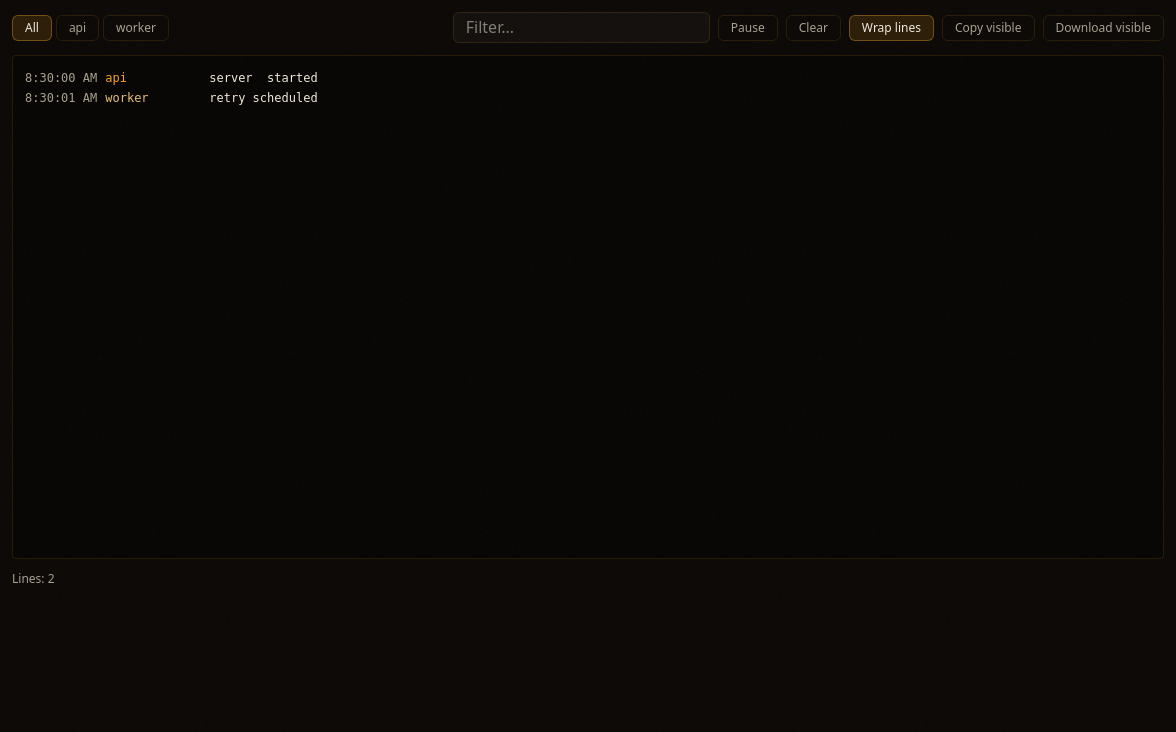
Test: StackLogsPage › shows a filtered empty state and disables transfer actions
In the field with placeholder "Filter...": (581, 28) [453,12,710,43], type "missing"
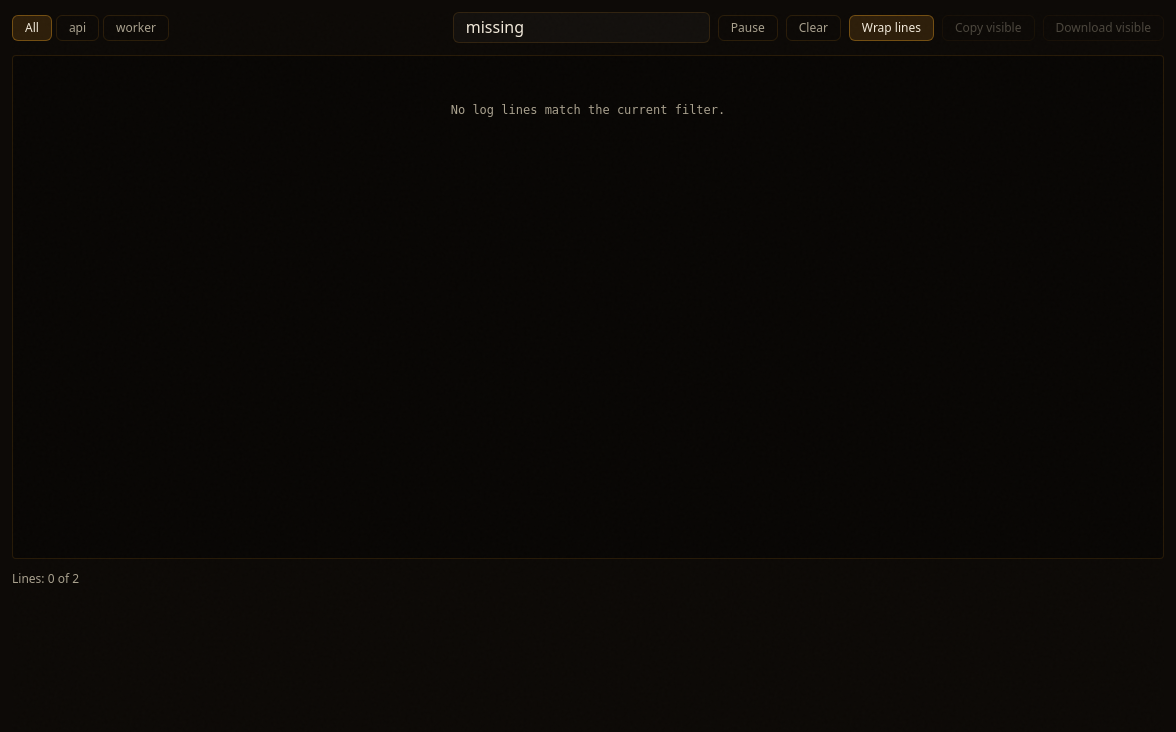
Check: the text "No log lines match the current filter." is shown, box [451,103,725,117]
Check: the button "Copy visible" is disabled, box [942,15,1034,41]
Check: the button "Download visible" is disabled, box [1042,15,1164,41]
